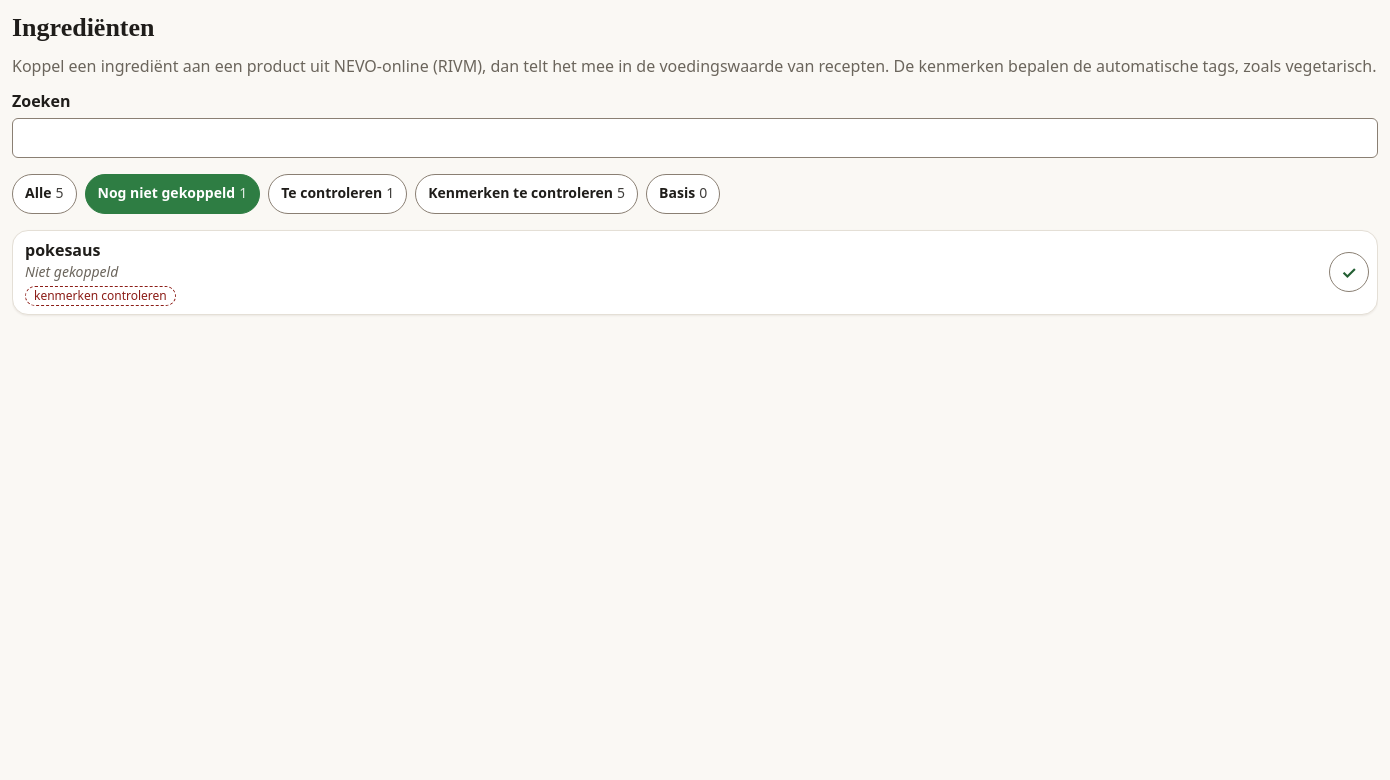
Test: IngredientsView › verwaarloosbaar: een badge, en niet bij "nog niet gekoppeld"
Click the button with class "filter-chip" showing "Alle 5".
click(44, 194)  # box [12,174,76,214]
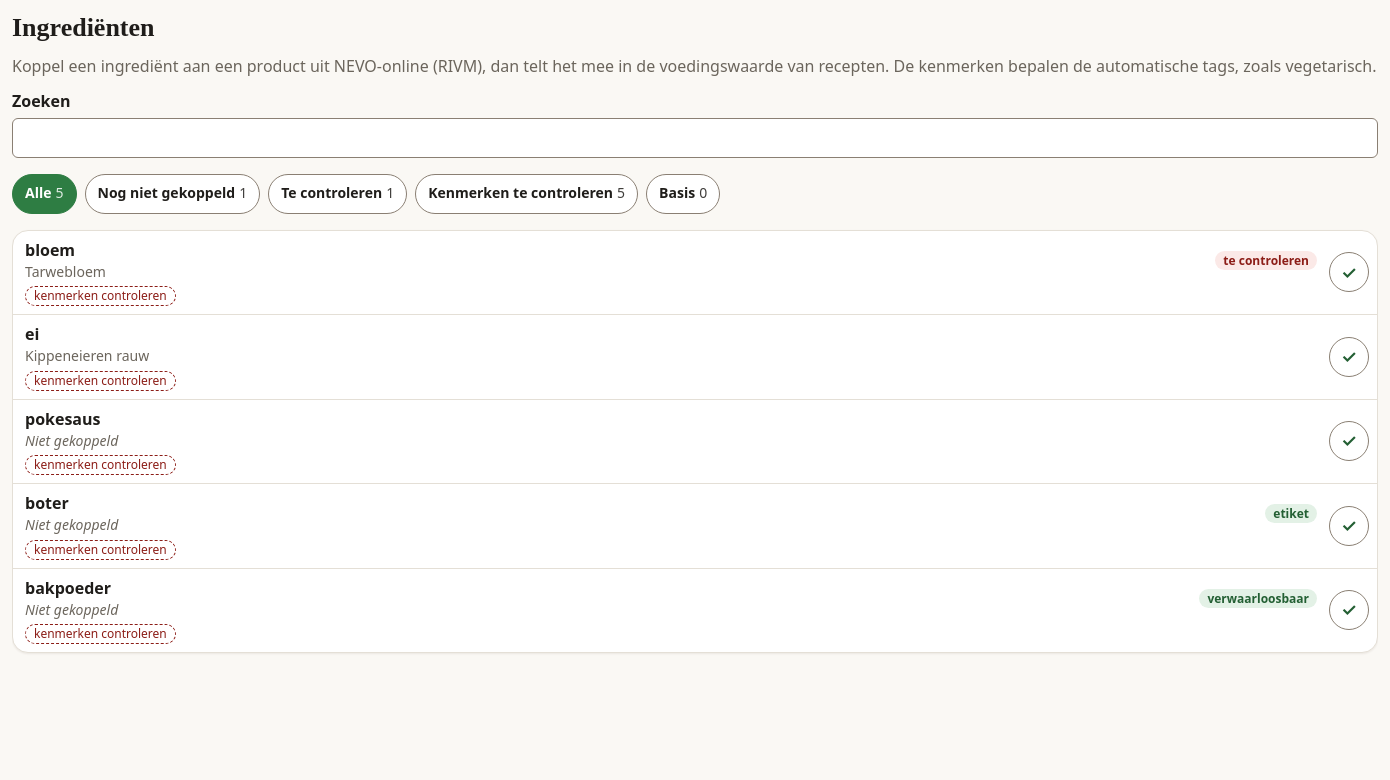
Now the text with class "badge" reads "verwaarloosbaar", box [1207,590,1309,607]
